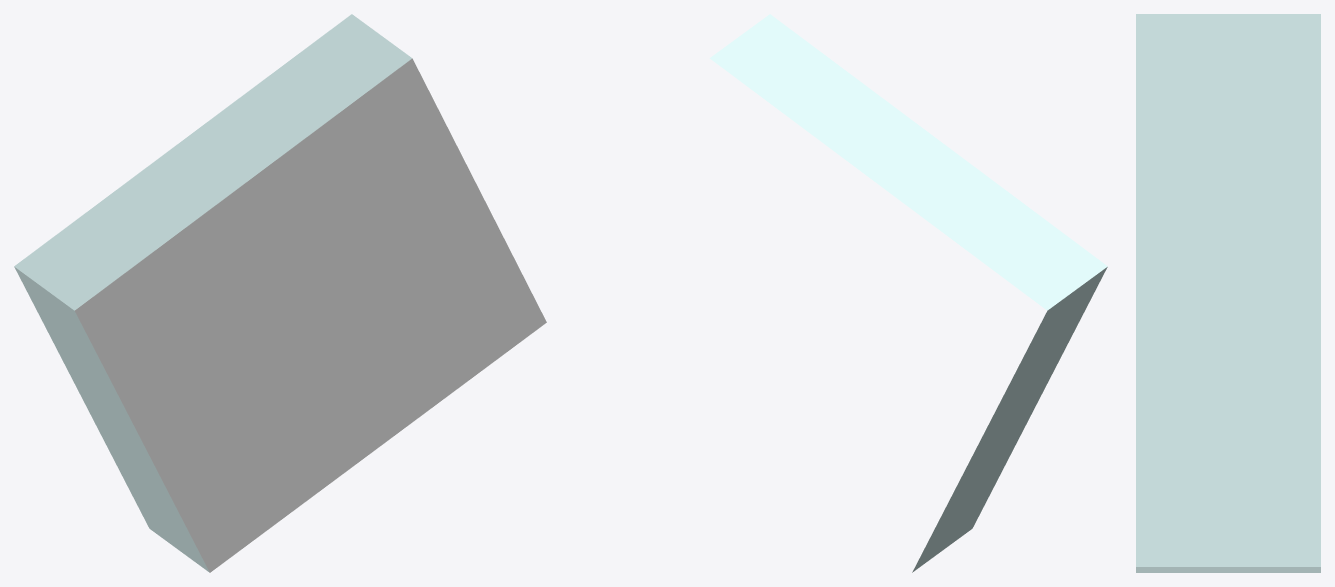
3 renders of one model, left to right at view 1: azimuth 30°, elevation 25°; view 2: azimuth 150°, elevation 25°; view 3: azimuth 270°, elevation 25°, orthographic. The views are drawn at different scales.
Parts seen in each view (by area): view 1: 0_1_1_3_0_2_1_2_1; view 2: 0_1_1_3_0_2_1_2_1; view 3: 0_1_1_3_0_2_1_2_1.
Part boxes in pixels (x1=…): 0_1_1_3_0_2_1_2_1: x1=14, y1=14, x2=546, y2=572; 0_1_1_3_0_2_1_2_1: x1=709, y1=14, x2=1107, y2=572; 0_1_1_3_0_2_1_2_1: x1=1136, y1=14, x2=1320, y2=572.
Size of the model in its own units: 13.51 by 12.72 by 3.
